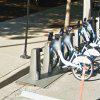Bicycle: (43, 8, 100, 87)
